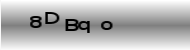8: (28, 15, 43, 29)
B: (64, 18, 79, 33)
D: (43, 11, 60, 25)
o: (99, 20, 113, 32)
q: (77, 20, 91, 34)
